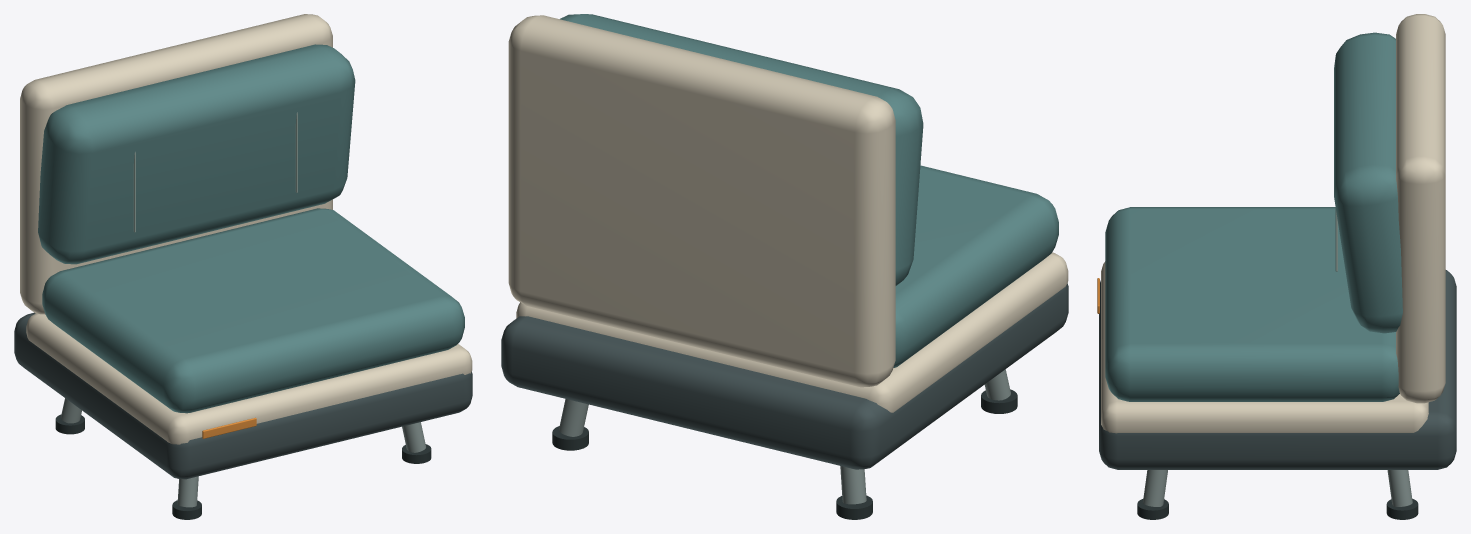
The model's file is sofa-seat-090.glb.
3 renders of one model, left to right at view 1: azimuth 30°, elevation 25°; view 2: azimuth 150°, elevation 25°; view 3: azimuth 270°, elevation 25°, orthographic. The views are drawn at different scales.
Visible parts, largest first — view 1: sofa-seat-090 / 16 / ocean woven cloth, sofa-seat-090 / 01 • warm porcelain paint, sofa-seat-090 / 06 • dark anodized frame, sofa-seat-090 / 05 • brushed titanium, sofa-seat-090 / 04 • graphite gasket; view 2: sofa-seat-090 / 01 • warm porcelain paint, sofa-seat-090 / 06 • dark anodized frame, sofa-seat-090 / 16 / ocean woven cloth, sofa-seat-090 / 05 • brushed titanium, sofa-seat-090 / 04 • graphite gasket; view 3: sofa-seat-090 / 16 / ocean woven cloth, sofa-seat-090 / 01 • warm porcelain paint, sofa-seat-090 / 06 • dark anodized frame, sofa-seat-090 / 05 • brushed titanium, sofa-seat-090 / 04 • graphite gasket.
Part boxes in pixels (x1=…): sofa-seat-090 / 16 / ocean woven cloth: x1=38, y1=44, x2=464, y2=413; sofa-seat-090 / 01 • warm porcelain paint: x1=20, y1=14, x2=472, y2=444; sofa-seat-090 / 06 • dark anodized frame: x1=14, y1=312, x2=472, y2=479; sofa-seat-090 / 05 • brushed titanium: x1=61, y1=398, x2=425, y2=507; sofa-seat-090 / 04 • graphite gasket: x1=55, y1=414, x2=431, y2=519; sofa-seat-090 / 01 • warm porcelain paint: x1=508, y1=15, x2=1068, y2=412; sofa-seat-090 / 06 • dark anodized frame: x1=501, y1=283, x2=1068, y2=469; sofa-seat-090 / 16 / ocean woven cloth: x1=560, y1=14, x2=1058, y2=367; sofa-seat-090 / 05 • brushed titanium: x1=559, y1=369, x2=1010, y2=504; sofa-seat-090 / 04 • graphite gasket: x1=552, y1=389, x2=1017, y2=519; sofa-seat-090 / 16 / ocean woven cloth: x1=1105, y1=32, x2=1402, y2=401; sofa-seat-090 / 01 • warm porcelain paint: x1=1101, y1=14, x2=1445, y2=433; sofa-seat-090 / 06 • dark anodized frame: x1=1099, y1=270, x2=1456, y2=469; sofa-seat-090 / 05 • brushed titanium: x1=1143, y1=470, x2=1412, y2=506; sofa-seat-090 / 04 • graphite gasket: x1=1137, y1=499, x2=1418, y2=519.
Bounding box in the file's own units: 0.9 × 0.975 × 0.864.
